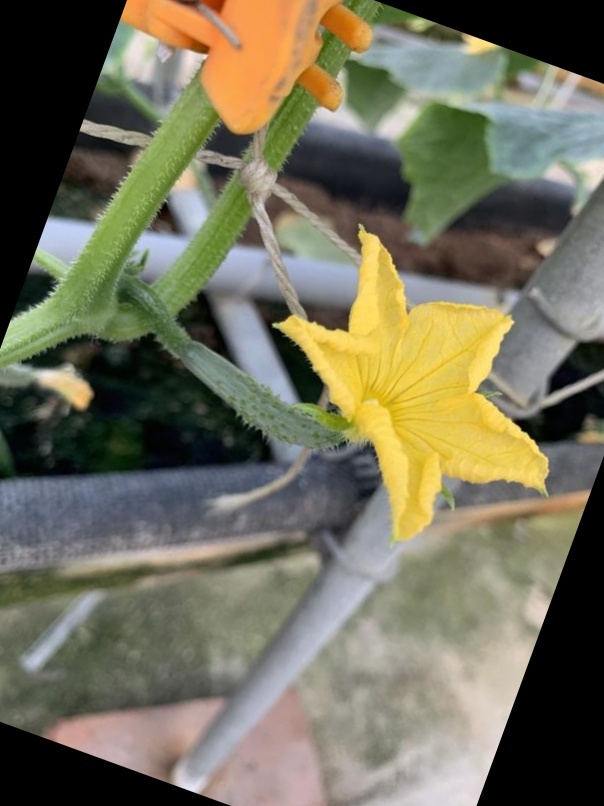flowering: (257, 237, 554, 544)
